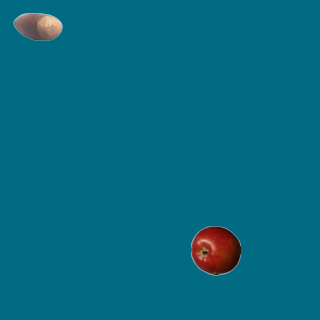Apple Braeburn: (190, 225, 240, 275)
Hazelnut: (12, 1, 62, 51)
